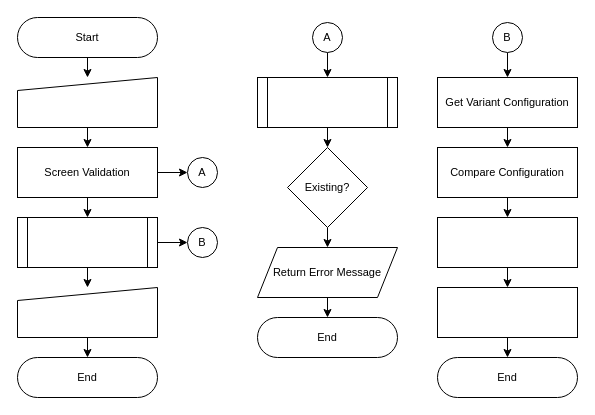
Image size: 595x415. Some labels were removed from this diagram. Here are the shapes that lost their labels. From the top down, the centre of each, then its label:
the point at 87,102: Input / Selection Screen
the point at 327,102: Validate Material and Document
the point at 87,242: Get Data
the point at 507,242: Get SPM
the point at 87,312: Output / Display ALV
the point at 507,312: Compare SPM
